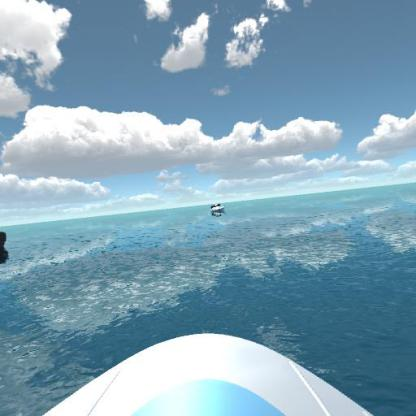usv1: (207, 199, 230, 218)
